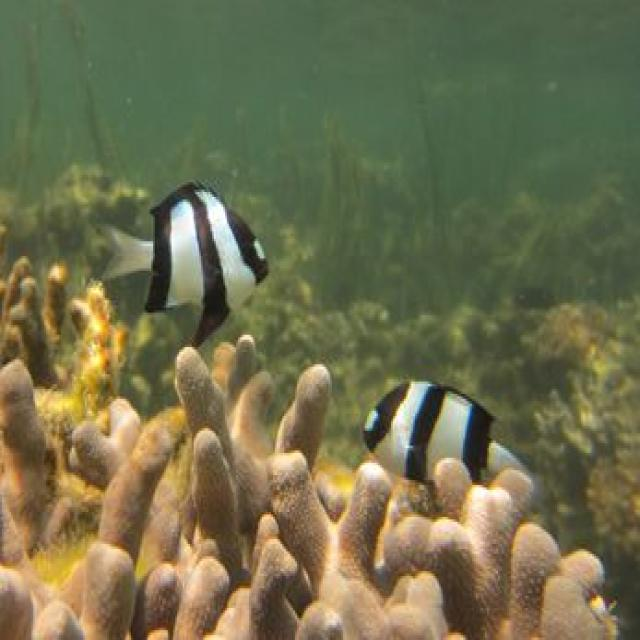ThreeStripedDamselfish: (105, 182, 271, 352)
